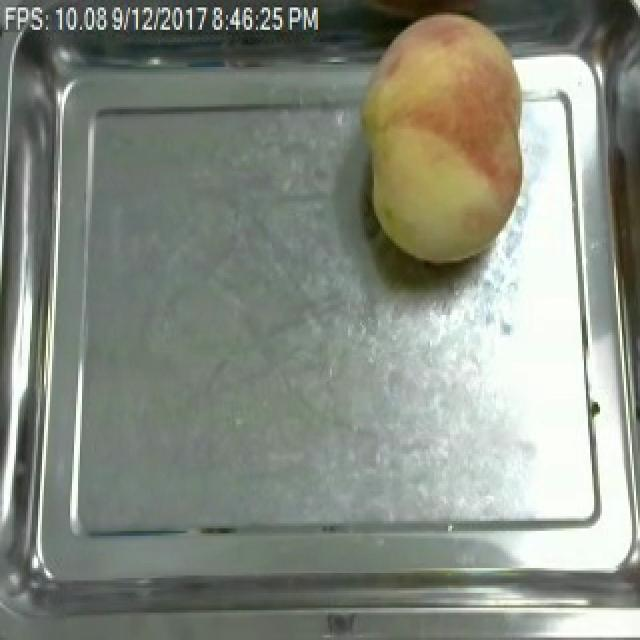Fruit: (342, 2, 538, 273)
